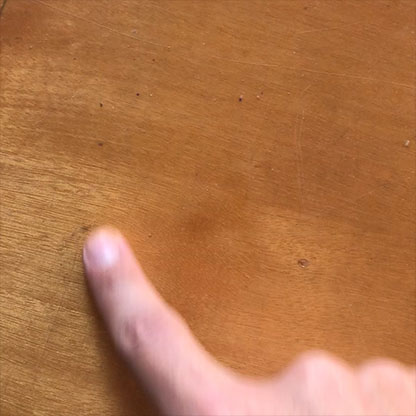fingertip: (73, 219, 138, 285)
